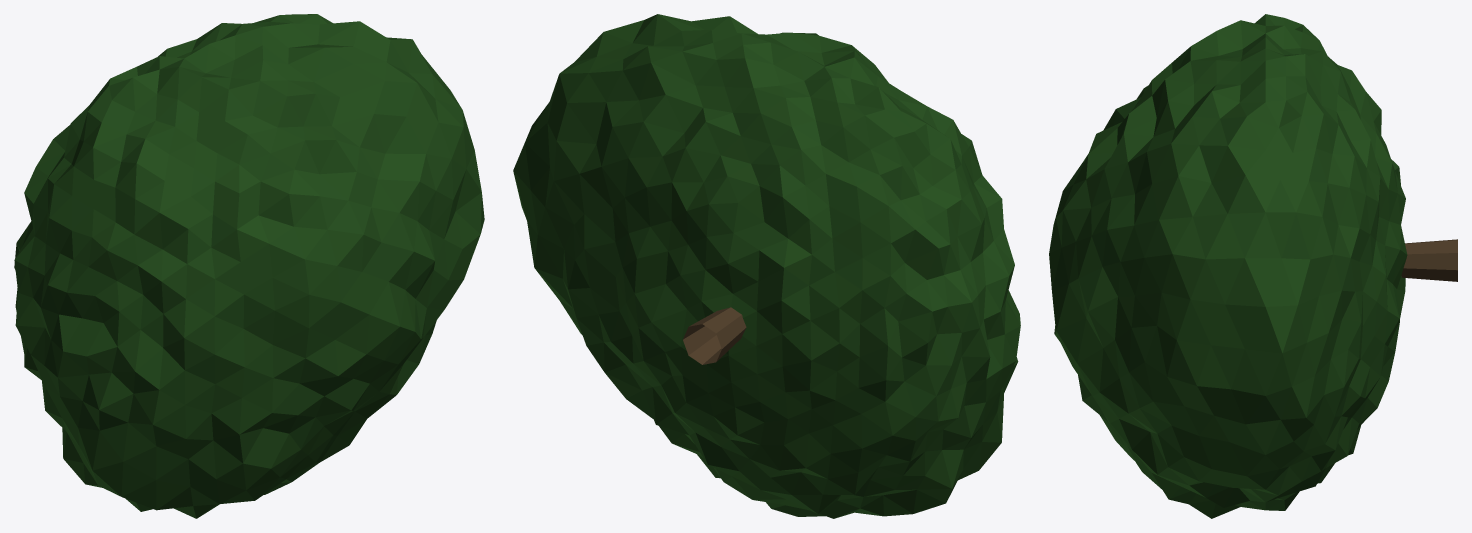
The model's file is citrus_d.obj.
3 views of the same model, side by side, from view 1: azimuth 30°, elevation 25°; view 2: azimuth 150°, elevation 25°; view 3: azimuth 270°, elevation 25° (orthographic). The views are drawn at different scales.
Visible parts, largest first — view 1: canopy; view 2: canopy, trunk; view 3: canopy, trunk.
Part boxes in pixels (left/top/right/bottom): canopy: left=14, top=14, right=484, bottom=518; canopy: left=513, top=14, right=1020, bottom=518; trunk: left=683, top=307, right=746, bottom=364; canopy: left=1049, top=14, right=1407, bottom=518; trunk: left=1401, top=239, right=1457, bottom=281.
Bounding box in the file's own units: 3.77 × 3.6 × 2.81.
